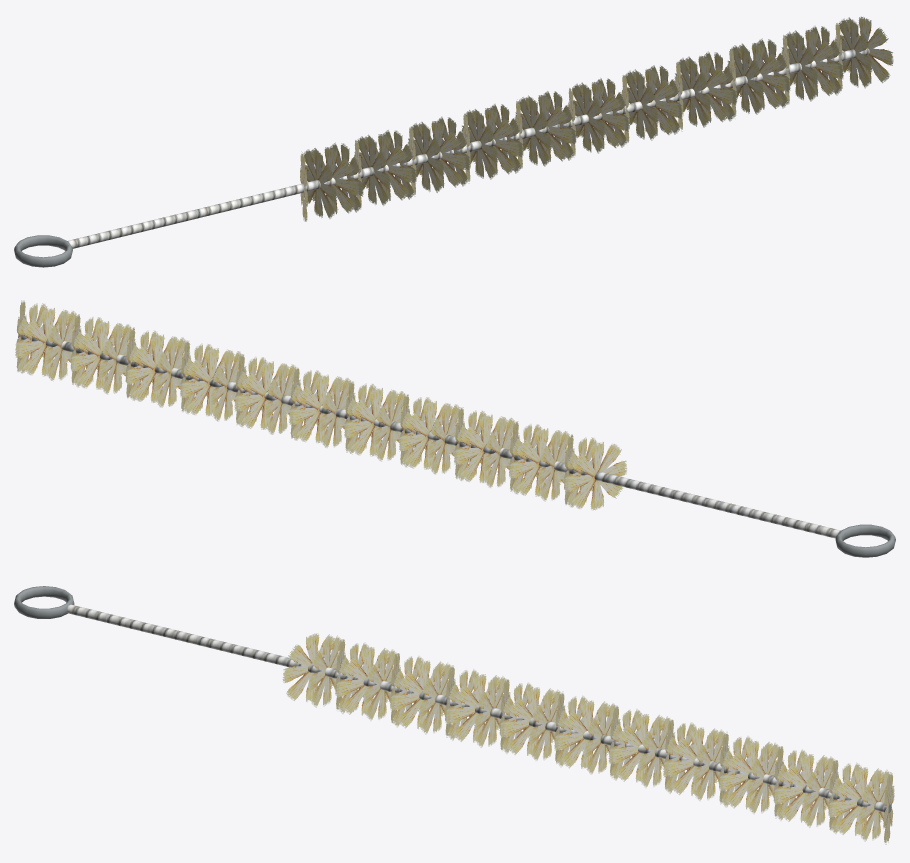
Rendered from WashingRoom_brush (1).fbx.
The picture shows the model from 3 angles, top to bottom: view 1: azimuth 30°, elevation 25°; view 2: azimuth 150°, elevation 25°; view 3: azimuth 330°, elevation 25°; orthographic projection. The views are drawn at different scales.
Visible parts, largest first — view 1: brush; view 2: brush; view 3: brush.
Part boxes in pixels (box(x1,y1,x2,y2)): brush: box(14, 16, 893, 267); brush: box(15, 300, 895, 557); brush: box(14, 586, 894, 844).
Bounding box in the file's own units: 33.06 × 2.6 × 2.54.
